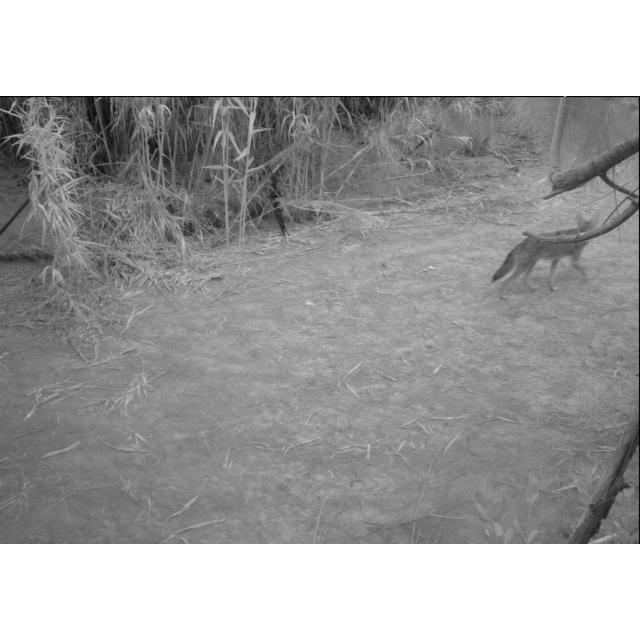animals: (492, 215, 600, 302)
